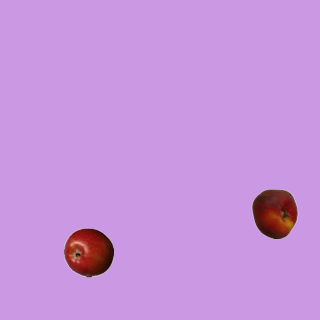Apple Braeburn: (63, 227, 113, 277)
Nectarine Flat: (249, 188, 299, 238)
